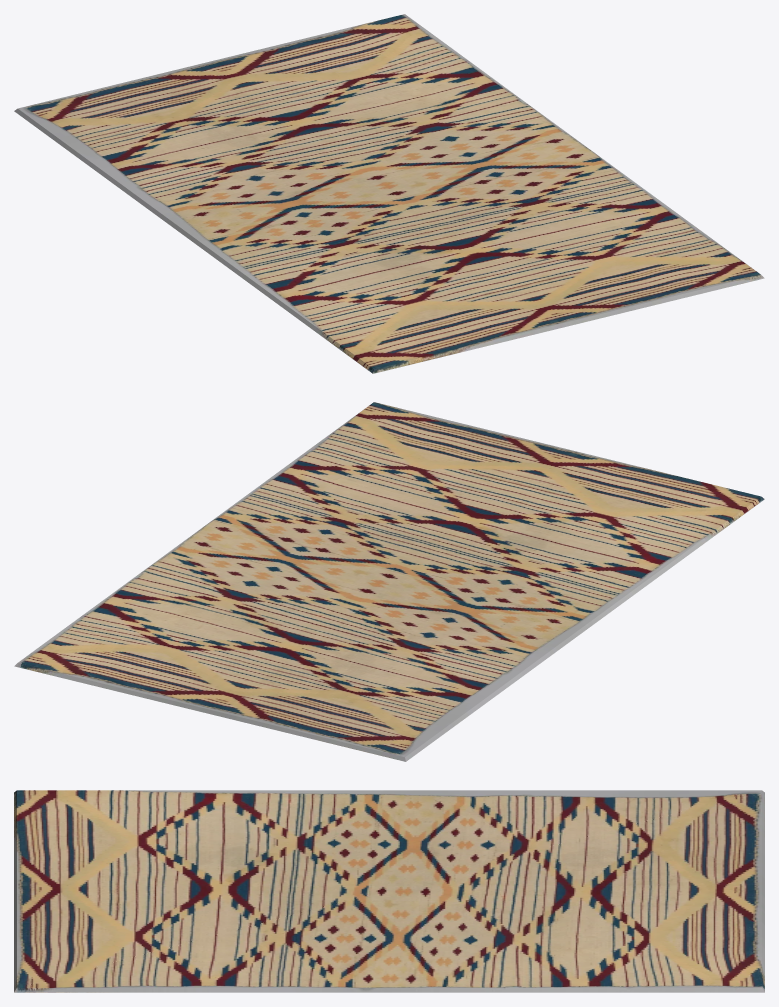
File: rug-navajo-serape.glb
3 views of the same model, one above another, from view 1: azimuth 30°, elevation 25°; view 2: azimuth 150°, elevation 25°; view 3: azimuth 270°, elevation 25° (orthographic). The views are drawn at different scales.
Parts seen in each view (by area): view 1: rug-navajo-serape; view 2: rug-navajo-serape; view 3: rug-navajo-serape.
Boxes of the visible parts, box(x1,y1,x2,y2) form: rug-navajo-serape: box(14, 14, 764, 373); rug-navajo-serape: box(14, 402, 764, 761); rug-navajo-serape: box(14, 790, 764, 992).
Size of the model in its own units: 1.33 by 0.01 by 2.11.
Materials: 1 (1 with a texture image).
